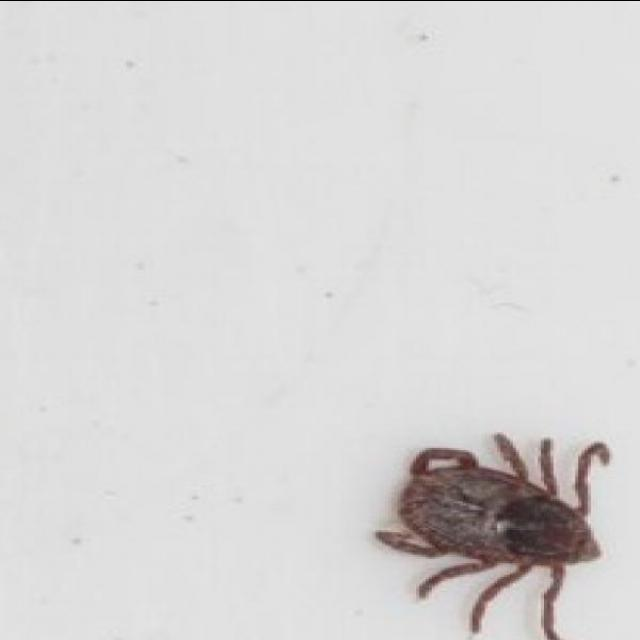Rhipicephalus Sanguineus-F: (373, 431, 613, 640)
